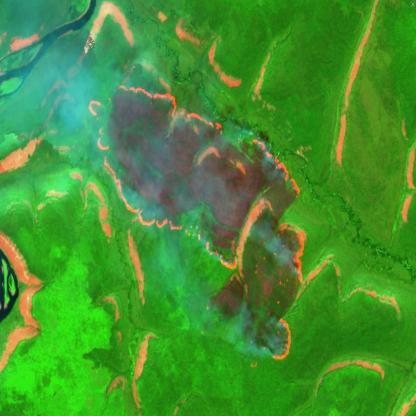fire: (85, 78, 308, 368)
